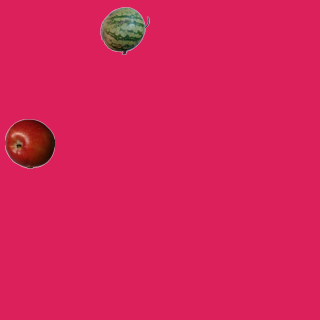Apple Braeburn: (4, 118, 54, 168)
Watermelon: (99, 5, 149, 55)
